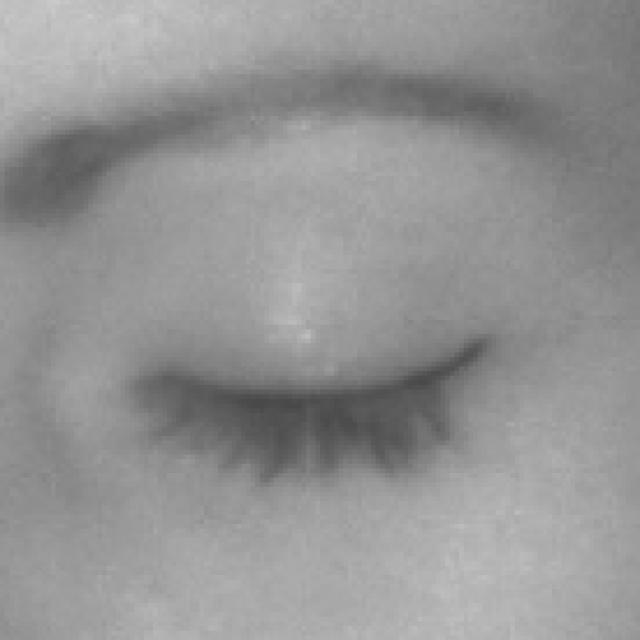close: (0, 39, 640, 601)
